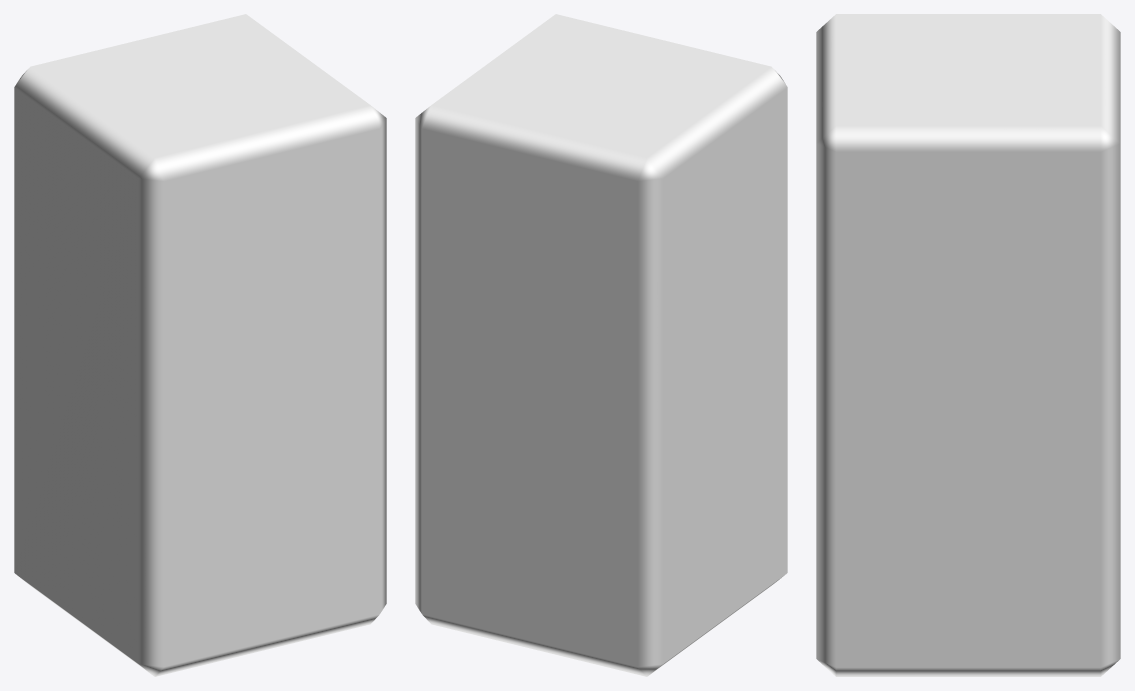
File: limb.obj
The picture shows the model from 3 angles, left to right: view 1: azimuth 30°, elevation 25°; view 2: azimuth 150°, elevation 25°; view 3: azimuth 270°, elevation 25°; orthographic projection. The views are drawn at different scales.
Parts seen in each view (by area): view 1: Rig1; view 2: Rig1; view 3: Rig1.
Part boxes in pixels (<box>): Rig1: <box>14,14,386,676</box>; Rig1: <box>415,14,787,676</box>; Rig1: <box>816,14,1120,676</box>.
Bounding box in the file's own units: 1 × 2 × 1.
Materials: 1 (1 with a texture image).
